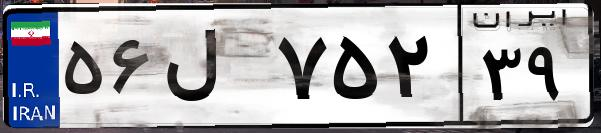2: (385, 28, 445, 110)
3: (475, 38, 525, 113)
5: (330, 28, 385, 110), (57, 26, 110, 100)
6: (110, 28, 158, 98)
7: (270, 28, 330, 110)
9: (525, 38, 570, 115)
ل: (158, 20, 270, 120)
